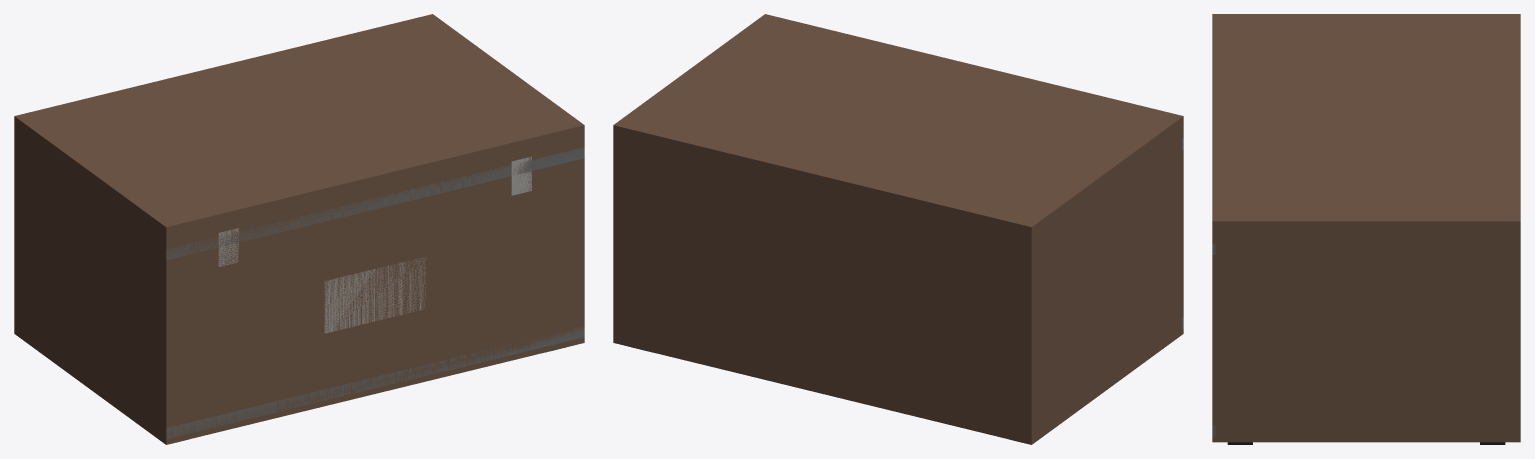
File: hallway-salvage-case.glb
The picture shows the model from 3 angles, left to right: view 1: azimuth 30°, elevation 25°; view 2: azimuth 150°, elevation 25°; view 3: azimuth 270°, elevation 25°; orthographic projection.
Visible parts, largest first — view 1: wood, metal, brushed; view 2: wood; view 3: wood.
Part boxes in pixels (x1,y1,x2,y2): wood: (14, 14, 584, 444); metal: (164, 147, 584, 438); brushed: (218, 156, 531, 333); wood: (613, 14, 1183, 444); wood: (1212, 14, 1520, 442).
Bounding box in the file's own units: 0.7 × 0.36 × 0.44.
